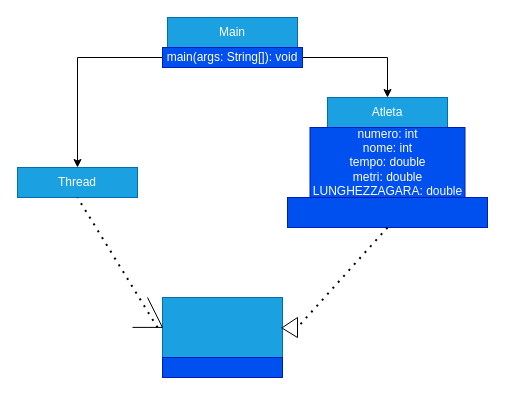
The diagram is 505 pixels wide and 395 high, and some of its shapes have lost their labels. Each missing label, with the centre of its shape:
"Atleta(pNumero: int, pNome: String)" goes at point (387, 212).
"run(): void" goes at point (222, 367).
"Runnable" goes at point (222, 327).
